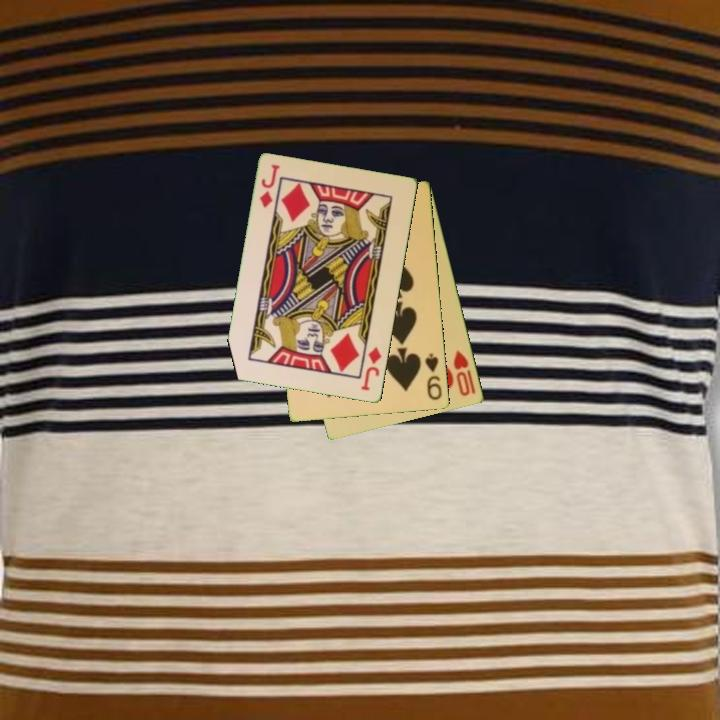10h: (450, 346, 479, 399)
9s: (422, 350, 445, 403)
Jd: (358, 343, 385, 394), (256, 161, 283, 211)
